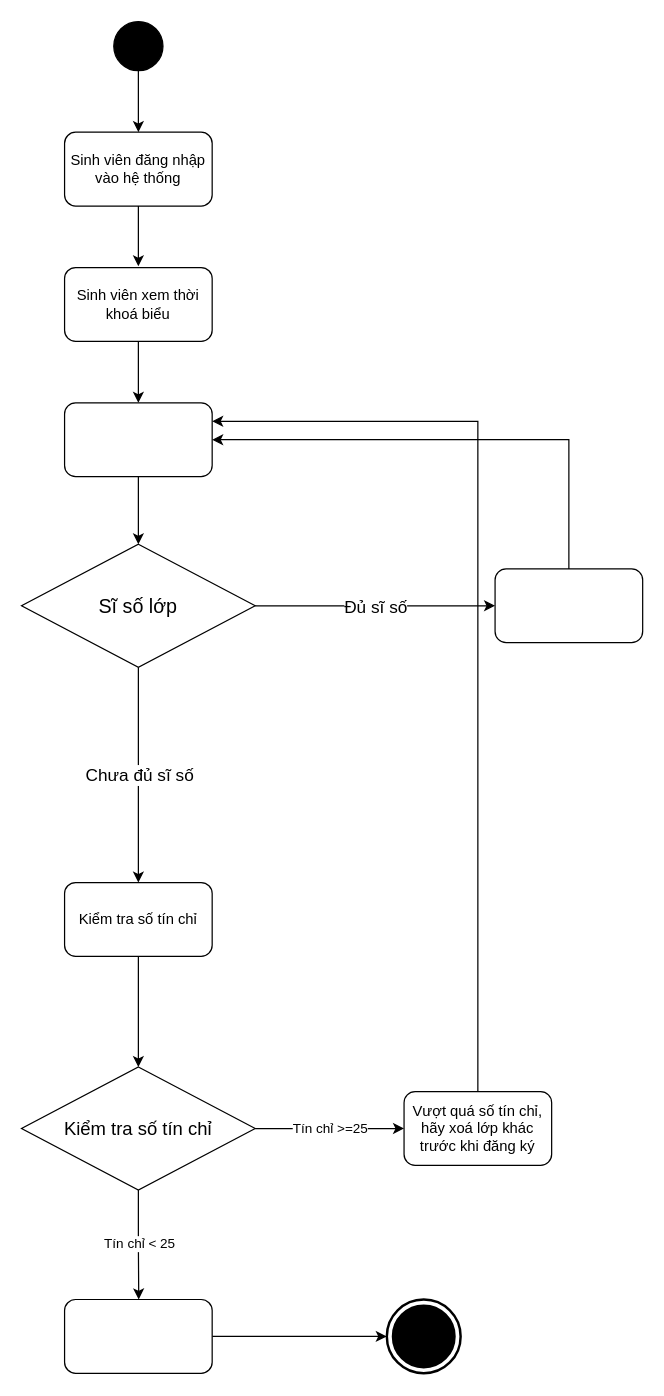
Some shapes in this 664 by 1396 pixel diagram are drawn without their labels. Each missing label, with the centre of its shape:
Lớp đã đủ sĩ số: [568,605]
Sinh viên chọn lớp học phần: [137,439]
Đăng ký thành công: [137,1335]
